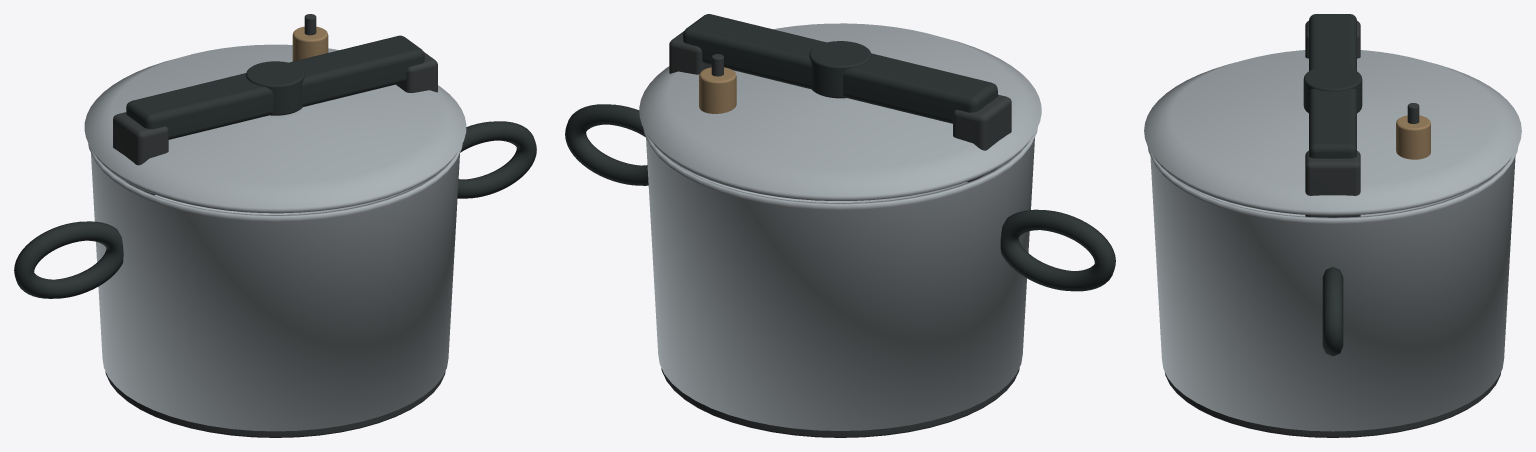
Rendered from lock-pot-cookware.glb.
The picture shows the model from 3 angles, left to right: view 1: azimuth 30°, elevation 25°; view 2: azimuth 150°, elevation 25°; view 3: azimuth 270°, elevation 25°; orthographic projection. The views are drawn at different scales.
Visible parts, largest first — view 1: Open cookware vessel, Seated pot lid, Locking pressure-lid bridge, Side lifting loop, Side lifting loop.001, Layered pan base, Seated pot lid knob, Locking lid ear, Locking lid ear.001, Safety pressure valve; view 2: Open cookware vessel, Seated pot lid, Locking pressure-lid bridge, Side lifting loop, Side lifting loop.001, Layered pan base, Seated pot lid knob, Locking lid ear, Safety pressure valve, Locking lid ear.001; view 3: Open cookware vessel, Seated pot lid, Locking pressure-lid bridge, Locking lid ear.001, Layered pan base, Side lifting loop.001, Seated pot lid knob, Safety pressure valve.
Part boxes in pixels (<box>): Open cookware vessel: <box>88,144,462,431</box>; Seated pot lid: <box>84,44,466,213</box>; Locking pressure-lid bridge: <box>126,35,424,139</box>; Side lifting loop: <box>14,221,123,298</box>; Side lifting loop.001: <box>457,121,536,198</box>; Layered pan base: <box>105,371,445,437</box>; Seated pot lid knob: <box>246,61,304,115</box>; Locking lid ear: <box>113,112,168,195</box>; Locking lid ear.001: <box>396,51,437,92</box>; Safety pressure valve: <box>292,26,328,61</box>; Open cookware vessel: <box>643,127,1037,430</box>; Seated pot lid: <box>639,23,1041,200</box>; Locking pressure-lid bridge: <box>683,14,997,123</box>; Side lifting loop: <box>1000,209,1115,291</box>; Side lifting loop.001: <box>565,104,648,185</box>; Layered pan base: <box>661,368,1019,437</box>; Seated pot lid knob: <box>809,41,871,98</box>; Locking lid ear: <box>953,94,1011,182</box>; Safety pressure valve: <box>699,67,736,113</box>; Locking lid ear.001: <box>669,31,711,74</box>; Open cookware vessel: <box>1148,147,1517,431</box>; Seated pot lid: <box>1144,50,1521,215</box>; Locking pressure-lid bridge: <box>1309,14,1356,158</box>; Locking lid ear.001: <box>1305,151,1360,217</box>; Layered pan base: <box>1165,373,1500,437</box>; Side lifting loop.001: <box>1322,267,1343,356</box>; Seated pot lid knob: <box>1303,65,1362,113</box>; Safety pressure valve: <box>1396,115,1430,159</box>.
Bounding box in the file's own units: 0.406 × 0.225 × 0.258.
Materials: 4 (4 with a texture image).
